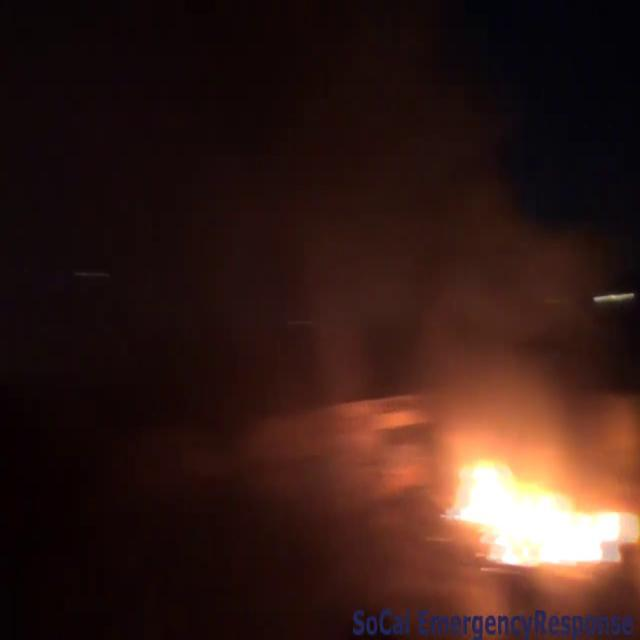Fire: (438, 447, 638, 572)
Smoke: (271, 114, 606, 442)
